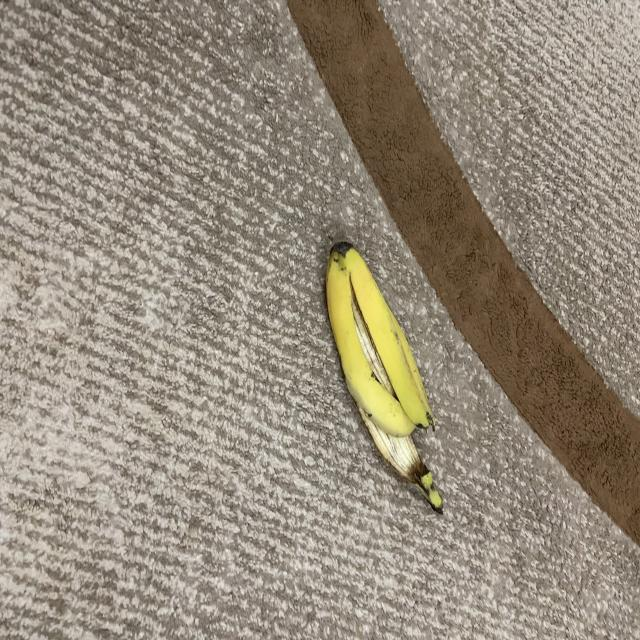banana-peel: (323, 239, 444, 513)
